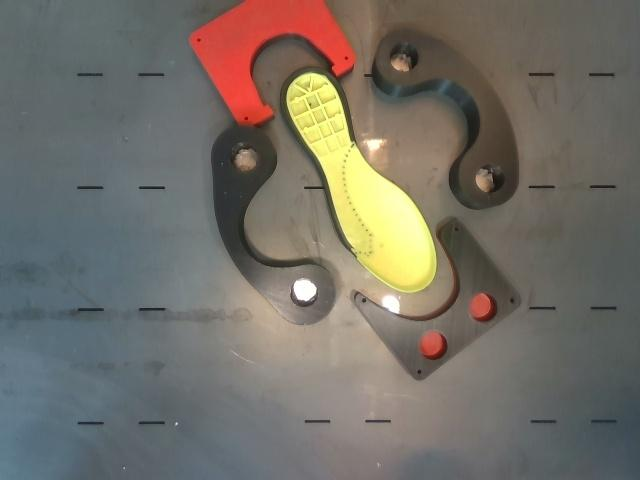shoes: (281, 68, 436, 291)
